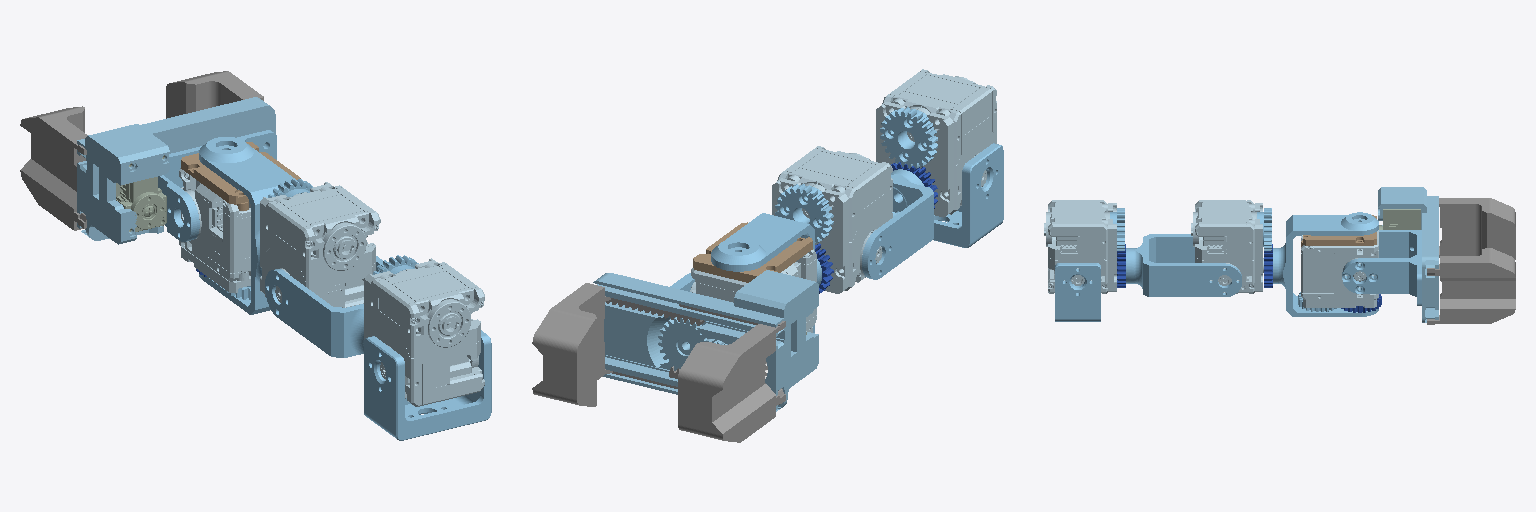
--- What the picture shows (computed from the rendered views, not written in the file) ---
The picture shows the robot from 3 angles, left to right: view 1: azimuth 30°, elevation 25°; view 2: azimuth 150°, elevation 25°; view 3: azimuth 270°, elevation 25°; orthographic projection.
Model left_arm_gripper with 19 links and 18 joints (10 revolute, 2 prismatic, 6 fixed), rooted at sho_pitch_link, posed every joint at zero.
Links seen in each view (by area): view 1: 2xl430_gears, left_rail_guide, 2xl430_gears_2, sho_pitch_link, rail, 2xl430_gears_3, elb_yaw_link, sho_yaw_link, gripper_connector, rail_2, xc330, wrist_bearing_plate; view 2: left_rail_guide, rail, 2xl430_gears_2, 2xl430_gears, rail_2, sho_yaw_link, sho_pitch_link, elb_yaw_link, spur_1m_24t_drive, spur_1m_24t_drive_2, 2xl430_gears_3, wrist_bearing_plate; view 3: rail_2, sho_yaw_link, 2xl430_gears, 2xl430_gears_2, rail, gripper_connector, 2xl430_gears_3, elb_yaw_link, left_rail_guide, sho_pitch_link, xc330, wrist_bearing_plate.
Boxes of the visible links, left/top/right/bottom form: 2xl430_gears: left=364, top=258, right=484, bottom=406; left_rail_guide: left=77, top=97, right=275, bottom=244; 2xl430_gears_2: left=260, top=182, right=380, bottom=307; sho_pitch_link: left=364, top=330, right=491, bottom=440; rail: left=20, top=106, right=87, bottom=230; 2xl430_gears_3: left=179, top=168, right=250, bottom=293; elb_yaw_link: left=199, top=137, right=294, bottom=314; sho_yaw_link: left=265, top=256, right=383, bottom=357; gripper_connector: left=158, top=130, right=276, bottom=241; rail_2: left=166, top=71, right=263, bottom=118; xc330: left=116, top=155, right=166, bottom=231; wrist_bearing_plate: left=181, top=142, right=300, bottom=210; left_rail_guide: left=593, top=270, right=818, bottom=411; rail: left=669, top=304, right=785, bottom=442; 2xl430_gears_2: left=772, top=146, right=892, bottom=293; 2xl430_gears: left=876, top=69, right=996, bottom=217; rail_2: left=532, top=283, right=704, bottom=406; sho_yaw_link: left=862, top=169, right=933, bottom=279; sho_pitch_link: left=933, top=143, right=1003, bottom=247; elb_yaw_link: left=711, top=213, right=821, bottom=332; spur_1m_24t_drive: left=880, top=107, right=937, bottom=168; spur_1m_24t_drive_2: left=775, top=184, right=833, bottom=242; 2xl430_gears_3: left=690, top=249, right=816, bottom=332; wrist_bearing_plate: left=693, top=222, right=812, bottom=282; rail_2: left=1427, top=248, right=1515, bottom=324; sho_yaw_link: left=1126, top=234, right=1241, bottom=296; 2xl430_gears: left=1044, top=200, right=1116, bottom=293; 2xl430_gears_2: left=1191, top=200, right=1263, bottom=293; rail: left=1439, top=198, right=1515, bottom=259; gripper_connector: left=1342, top=230, right=1421, bottom=305; 2xl430_gears_3: left=1301, top=230, right=1378, bottom=307; elb_yaw_link: left=1273, top=212, right=1378, bottom=316; left_rail_guide: left=1378, top=187, right=1438, bottom=322; sho_pitch_link: left=1055, top=263, right=1100, bottom=321; xc330: left=1379, top=209, right=1420, bottom=229; wrist_bearing_plate: left=1301, top=215, right=1376, bottom=246.
Size in the robot's own frame: 0.0917 by 0.2811 by 0.0652 metres.
19 mesh visuals loaded from 19 distinct referenced files (19 binary STL).

robot.urdf — left_arm_gripper:
<?xml version="1.0" ?><robot name="left_arm_gripper">  
  <link name="sho_pitch_link">    
    <visual>      
      <origin xyz="0 0 0" rpy="0 -0 0"/>      
      <geometry>        
        <mesh filename="package:///meshes/left_sho_pitch_link_visual.stl"/>        
      </geometry>      
      <material name="sho_pitch_link_material">        
        <color rgba="0.61568627450980395466 0.81176470588235294379 0.92941176470588227065 1.0"/>        
      </material>      
    </visual>    
    <collision>      
      <origin xyz="0 0 0" rpy="0 -0 0"/>      
      <geometry>        
        <mesh filename="package:///meshes/left_sho_pitch_link_collision.stl"/>        
      </geometry>      
    </collision>    
    <inertial>      
      <origin xyz="1.8449019812287164588e-18 -2.080223803955683775e-18 0.012913250798677554029" rpy="0 0 0"/>      
      <mass value="0.0085999999999999982708"/>      
      <inertia ixx="1.8365636406635691559e-06" ixy="1.0387514045979629962e-20" ixz="-1.6193093852519860617e-61" iyy="4.0110869076838864174e-06" iyz="-1.0800914119377960692e-46" izz="3.516051645049224817e-06"/>      
    </inertial>    
  </link>  

  <link name="2xl430_gears">    
    <visual>      
      <origin xyz="0 0 0" rpy="0 -0 0"/>      
      <geometry>        
        <mesh filename="package:///meshes/left_2xl430_gears_visual.stl"/>        
      </geometry>      
      <material name="2xl430_gears_material">        
        <color rgba="0.7591476792056923717 0.85560384745670914342 0.90519468321360618823 1.0"/>        
      </material>      
    </visual>    
    <collision>      
      <origin xyz="0 0 0" rpy="0 -0 0"/>      
      <geometry>        
        <mesh filename="package:///meshes/left_2xl430_gears_collision.stl"/>        
      </geometry>      
    </collision>    
    <inertial>      
      <origin xyz="-0.011592905737981450826 -0.002423855364253546963 -0.01855109552380399679" rpy="0 0 0"/>      
      <mass value="0.11800003674524908726"/>      
      <inertia ixx="2.7511021050426360412e-05" ixy="9.0043904315238054324e-07" ixz="-2.3349710124000869682e-08" iyy="3.2796197843347020334e-05" iyz="-6.5715119654760767617e-07" izz="3.5775739835743296106e-05"/>      
    </inertial>    
  </link>  

  <link name="spur_1m_24t_drive">    
    <visual>      
      <origin xyz="0 0 0" rpy="0 -0 0"/>      
      <geometry>        
        <mesh filename="package:///meshes/left_spur_1m_24t_drive_visual.stl"/>        
      </geometry>      
      <material name="spur_1m_24t_drive_material">        
        <color rgba="0.61568627450980406568 0.81176470588235294379 0.92941176470588238168 1.0"/>        
      </material>      
    </visual>    
    <collision>      
      <origin xyz="0 0 0" rpy="0 -0 0"/>      
      <geometry>        
        <mesh filename="package:///meshes/left_spur_1m_24t_drive_collision.stl"/>        
      </geometry>      
    </collision>    
    <inertial>      
      <origin xyz="3.0326539266682488924e-15 -3.3909557259597738952e-16 0.0048096451474093039266" rpy="0 0 0"/>      
      <mass value="0.0032000000000000001533"/>      
      <inertia ixx="1.409759888701696132e-07" ixy="1.5562823081573231774e-15" ixz="1.8909116097027644629e-36" iyy="1.4097598803635998845e-07" iyz="8.7196449218219347336e-37" izz="2.4107776386988835496e-07"/>      
    </inertial>    
  </link>  

  <joint name="left_sho_yaw_drive" type="revolute">    
    <origin xyz="-0.024000000716140296869 -0.019000000152454142588 -0.019000000152450579466" rpy="1.5707963267950031394 -3.1434454584096845964e-14 1.6688855498804727815e-13"/>    
    <parent link="2xl430_gears"/>    
    <child link="spur_1m_24t_drive"/>    
    <axis xyz="0 0 1"/>    
    <limit effort="1" velocity="20" lower="-2.6179938779914944114" upper="2.6179938779914944114"/>    
    <joint_properties friction="0.0"/>    
  </joint>  

  <link name="spur_1m_24t_driven">    
    <visual>      
      <origin xyz="0 0 0" rpy="0 -0 0"/>      
      <geometry>        
        <mesh filename="package:///meshes/left_spur_1m_24t_driven_visual.stl"/>        
      </geometry>      
      <material name="spur_1m_24t_driven_material">        
        <color rgba="0.23137254901960788156 0.38039215686274502337 0.7058823529411765163 1.0"/>        
      </material>      
    </visual>    
    <collision>      
      <origin xyz="0 0 0" rpy="0 -0 0"/>      
      <geometry>        
        <mesh filename="package:///meshes/left_spur_1m_24t_driven_collision.stl"/>        
      </geometry>      
    </collision>    
    <inertial>      
      <origin xyz="-6.3908415917439005078e-18 -1.6886349105605204739e-15 -0.00097237500038396124102" rpy="0 0 0"/>      
      <mass value="0.0026999999999999997093"/>      
      <inertia ixx="1.2202334915684083145e-07" ixy="4.2715130792968527767e-37" ixz="-7.4298475334020377518e-37" iyy="1.2202334915684064616e-07" iyz="3.4121884323812485808e-36" izz="2.3180293204341257533e-07"/>      
    </inertial>    
  </link>  

  <link name="sho_yaw_link">    
    <visual>      
      <origin xyz="0 0 0" rpy="0 -0 0"/>      
      <geometry>        
        <mesh filename="package:///meshes/left_sho_yaw_link_visual.stl"/>        
      </geometry>      
      <material name="sho_yaw_link_material">        
        <color rgba="0.61568627450980395466 0.81176470588235294379 0.92941176470588238168 1.0"/>        
      </material>      
    </visual>    
    <collision>      
      <origin xyz="0 0 0" rpy="0 -0 0"/>      
      <geometry>        
        <mesh filename="package:///meshes/left_sho_yaw_link_collision.stl"/>        
      </geometry>      
    </collision>    
    <inertial>      
      <origin xyz="-2.4352534325391168114e-18 2.8819643225844087237e-18 -0.024649285094360061377" rpy="0 0 0"/>      
      <mass value="0.014500000000000004205"/>      
      <inertia ixx="9.2365904614004439553e-06" ixy="3.5862833440690446869e-13" ixz="-1.2687936100387064119e-34" iyy="5.8163826335078791714e-06" iyz="-1.5023236319927603688e-35" izz="4.5074356741562113561e-06"/>      
    </inertial>    
  </link>  

  <link name="2xl430_gears_2">    
    <visual>      
      <origin xyz="0 0 0" rpy="0 -0 0"/>      
      <geometry>        
        <mesh filename="package:///meshes/left_2xl430_gears_2_visual.stl"/>        
      </geometry>      
      <material name="2xl430_gears_2_material">        
        <color rgba="0.7591476792056923717 0.85560384745670914342 0.90519468321360618823 1.0"/>        
      </material>      
    </visual>    
    <collision>      
      <origin xyz="0 0 0" rpy="0 -0 0"/>      
      <geometry>        
        <mesh filename="package:///meshes/left_2xl430_gears_2_collision.stl"/>        
      </geometry>      
    </collision>    
    <inertial>      
      <origin xyz="-0.01159290573798117327 -0.0024238553642602004949 -0.018551095523806161725" rpy="0 0 0"/>      
      <mass value="0.11800003674524908726"/>      
      <inertia ixx="2.7511021050432340465e-05" ixy="9.0043904315261866538e-07" ixz="-2.3349710124131547675e-08" iyy="3.2796197843347521777e-05" iyz="-6.5715119654698193058e-07" izz="3.5775739835749923291e-05"/>      
    </inertial>    
  </link>  

  <link name="spur_1m_24t_drive_2">    
    <visual>      
      <origin xyz="0 0 0" rpy="0 -0 0"/>      
      <geometry>        
        <mesh filename="package:///meshes/left_spur_1m_24t_drive_2_visual.stl"/>        
      </geometry>      
      <material name="spur_1m_24t_drive_2_material">        
        <color rgba="0.61568627450980406568 0.81176470588235294379 0.92941176470588238168 1.0"/>        
      </material>      
    </visual>    
    <collision>      
      <origin xyz="0 0 0" rpy="0 -0 0"/>      
      <geometry>        
        <mesh filename="package:///meshes/left_spur_1m_24t_drive_2_collision.stl"/>        
      </geometry>      
    </collision>    
    <inertial>      
      <origin xyz="3.0395928205721561208e-15 -3.3909557259597763604e-16 0.0048096451474092995898" rpy="0 0 0"/>      
      <mass value="0.0032000000000000001533"/>      
      <inertia ixx="1.409759888701696132e-07" ixy="1.5562823101719447534e-15" ixz="4.5205440903615987127e-36" iyy="1.4097598803636001492e-07" iyz="4.1303952486303564848e-36" izz="2.4107776386988835496e-07"/>      
    </inertial>    
  </link>  

  <joint name="left_elbow_yaw_drive" type="revolute">    
    <origin xyz="-0.024000000716141486889 -0.01900000015246021412 -0.019000000152444587731" rpy="1.5707963267946158936 -5.9566245242711314536e-14 1.228127009104490865e-13"/>    
    <parent link="2xl430_gears_2"/>    
    <child link="spur_1m_24t_drive_2"/>    
    <axis xyz="0 0 1"/>    
    <limit effort="1" velocity="20" lower="-2.6179938779914944114" upper="2.6179938779914944114"/>    
    <joint_properties friction="0.0"/>    
  </joint>  

  <link name="spur_1m_24t_driven_2">    
    <visual>      
      <origin xyz="0 0 0" rpy="0 -0 0"/>      
      <geometry>        
        <mesh filename="package:///meshes/left_spur_1m_24t_driven_2_visual.stl"/>        
      </geometry>      
      <material name="spur_1m_24t_driven_2_material">        
        <color rgba="0.23137254901960788156 0.38039215686274502337 0.7058823529411765163 1.0"/>        
      </material>      
    </visual>    
    <collision>      
      <origin xyz="0 0 0" rpy="0 -0 0"/>      
      <geometry>        
        <mesh filename="package:///meshes/left_spur_1m_24t_driven_2_collision.stl"/>        
      </geometry>      
    </collision>    
    <inertial>      
      <origin xyz="-2.9213946397902759189e-18 -1.6886349105605200794e-15 -0.00097237500038395430213" rpy="0 0 0"/>      
      <mass value="0.0026999999999999997093"/>      
      <inertia ixx="1.2202334915684083145e-07" ixy="0" ixz="0" iyy="1.2202334915684064616e-07" iyz="5.6884209303599264861e-37" izz="2.3180293204341257533e-07"/>      
    </inertial>    
  </link>  

  <link name="elb_yaw_link">    
    <visual>      
      <origin xyz="0 0 0" rpy="0 -0 0"/>      
      <geometry>        
        <mesh filename="package:///meshes/left_elb_yaw_link_visual.stl"/>        
      </geometry>      
      <material name="elb_yaw_link_material">        
        <color rgba="0.61568627450980395466 0.81176470588235294379 0.92941176470588227065 1.0"/>        
      </material>      
    </visual>    
    <collision>      
      <origin xyz="0 0 0" rpy="0 -0 0"/>      
      <geometry>        
        <mesh filename="package:///meshes/left_elb_yaw_link_collision.stl"/>        
      </geometry>      
    </collision>    
    <inertial>      
      <origin xyz="5.3127688027189133061e-08 0.0019833638641961665906 -0.023416643551549962826" rpy="0 0 0"/>      
      <mass value="0.017500000000000001665"/>      
      <inertia ixx="1.4134344903109196387e-05" ixy="1.6945783921929356084e-12" ixz="-1.1286398721892709078e-11" iyy="6.6435900776211340404e-06" iyz="1.0545227077253057579e-06" izz="8.9925290757998976773e-06"/>      
    </inertial>    
  </link>  

  <link name="spur_1m_24t_driven_3">    
    <visual>      
      <origin xyz="0 0 0" rpy="0 -0 0"/>      
      <geometry>        
        <mesh filename="package:///meshes/left_spur_1m_24t_driven_3_visual.stl"/>        
      </geometry>      
      <material name="spur_1m_24t_driven_3_material">        
        <color rgba="0.23137254901960788156 0.38039215686274502337 0.7058823529411765163 1.0"/>        
      </material>      
    </visual>    
    <collision>      
      <origin xyz="0 0 0" rpy="0 -0 0"/>      
      <geometry>        
        <mesh filename="package:///meshes/left_spur_1m_24t_driven_3_collision.stl"/>        
      </geometry>      
    </collision>    
    <inertial>      
      <origin xyz="-2.9213946397902759189e-18 -1.6886349105605200794e-15 -0.0025723750003839584988" rpy="0 0 0"/>      
      <mass value="0.0026999999999999997093"/>      
      <inertia ixx="1.2202334915684083145e-07" ixy="-3.9235082874827157071e-37" ixz="1.540151194783440735e-36" iyy="1.2202334915684064616e-07" iyz="1.0864894308623725195e-65" izz="2.3180293204341257533e-07"/>      
    </inertial>    
  </link>  

  <link name="2xl430_gears_3">    
    <visual>      
      <origin xyz="0 0 0" rpy="0 -0 0"/>      
      <geometry>        
        <mesh filename="package:///meshes/left_2xl430_gears_3_visual.stl"/>        
      </geometry>      
      <material name="2xl430_gears_3_material">        
        <color rgba="0.7591476792056923717 0.85560384745670914342 0.90519468321360618823 1.0"/>        
      </material>      
    </visual>    
    <collision>      
      <origin xyz="0 0 0" rpy="0 -0 0"/>      
      <geometry>        
        <mesh filename="package:///meshes/left_2xl430_gears_3_collision.stl"/>        
      </geometry>      
    </collision>    
    <inertial>      
      <origin xyz="0.00044890447619516703551 0.011592905379904264868 -0.024576144788197775565" rpy="0 0 0"/>      
      <mass value="0.11800003674524908726"/>      
      <inertia ixx="3.5775739835741886643e-05" ixy="2.334971012477968339e-08" ixz="6.5715119654911433603e-07" iyy="2.7511021050427295537e-05" iyz="9.0043904314901125793e-07" izz="3.27961978433465731e-05"/>      
    </inertial>    
  </link>  

  <link name="spur_1m_24t_drive_3">    
    <visual>      
      <origin xyz="0 0 0" rpy="0 -0 0"/>      
      <geometry>        
        <mesh filename="package:///meshes/left_spur_1m_24t_drive_3_visual.stl"/>        
      </geometry>      
      <material name="spur_1m_24t_drive_3_material">        
        <color rgba="0.61568627450980406568 0.81176470588235294379 0.92941176470588238168 1.0"/>        
      </material>      
    </visual>    
    <collision>      
      <origin xyz="0 0 0" rpy="0 -0 0"/>      
      <geometry>        
        <mesh filename="package:///meshes/left_spur_1m_24t_drive_3_collision.stl"/>        
      </geometry>      
    </collision>    
    <inertial>      
      <origin xyz="3.0326539266682488924e-15 -3.3909557259597738952e-16 0.004809645147409304794" rpy="0 0 0"/>      
      <mass value="0.0032000000000000001533"/>      
      <inertia ixx="1.409759888701696132e-07" ixy="1.556282311437739129e-15" ixz="-1.8235547395955791874e-37" iyy="1.4097598803635998845e-07" iyz="-5.9472593219276696462e-37" izz="2.4107776386988835496e-07"/>      
    </inertial>    
  </link>  

  <joint name="left_wrist_pitch_drive" type="revolute">    
    <origin xyz="-1.5244671348201973698e-10 0.024000000358068290796 -0.0080000000000027861324" rpy="-4.3526989296690041628e-14 -1.012303054589254389e-13 -1.5707963267948548136"/>    
    <parent link="2xl430_gears_3"/>    
    <child link="spur_1m_24t_drive_3"/>    
    <axis xyz="0 0 1"/>    
    <limit effort="1" velocity="20" lower="-1.9198621771937625091" upper="1.3962634015954635824"/>    
    <joint_properties friction="0.0"/>    
  </joint>  

  <link name="gripper_connector">    
    <visual>      
      <origin xyz="0 0 0" rpy="0 -0 0"/>      
      <geometry>        
        <mesh filename="package:///meshes/left_gripper_connector_visual.stl"/>        
      </geometry>      
      <material name="gripper_connector_material">        
        <color rgba="0.61568627450980395466 0.81176470588235294379 0.92941176470588238168 1.0"/>        
      </material>      
    </visual>    
    <collision>      
      <origin xyz="0 0 0" rpy="0 -0 0"/>      
      <geometry>        
        <mesh filename="package:///meshes/left_gripper_connector_collision.stl"/>        
      </geometry>      
    </collision>    
    <inertial>      
      <origin xyz="-0.00018842170188954562057 -0.022508162473387258173 -0.010896047477464287576" rpy="0 0 0"/>      
      <mass value="0.0099999999999999967387"/>      
      <inertia ixx="5.9456375734536726584e-06" ixy="-2.4479055491886681531e-08" ixz="-4.0329437936864279052e-08" iyy="4.2603724874314054683e-06" iyz="4.585261274976229064e-07" izz="2.4669632528047159756e-06"/>      
    </inertial>    
  </link>  

  <link name="left_rail_guide">    
    <visual>      
      <origin xyz="0 0 0" rpy="0 -0 0"/>      
      <geometry>        
        <mesh filename="package:///meshes/left_rail_guide_visual.stl"/>        
      </geometry>      
      <material name="left_rail_guide_material">        
        <color rgba="0.63181718041513335038 0.80465605329635436771 0.89972875975946808857 1.0"/>        
      </material>      
    </visual>    
    <collision>      
      <origin xyz="0 0 0" rpy="0 -0 0"/>      
      <geometry>        
        <mesh filename="package:///meshes/left_rail_guide_collision.stl"/>        
      </geometry>      
    </collision>    
    <inertial>      
      <origin xyz="0.010819518839780870034 0.0021116106205359632016 -7.6871709864913219043e-05" rpy="0 0 0"/>      
      <mass value="0.031121017612416673748"/>      
      <inertia ixx="7.8532725551086577254e-06" ixy="2.0671876731375216749e-06" ixz="4.0098876287871815401e-06" iyy="2.7330594711584456634e-05" iyz="-8.9062740055664937356e-07" izz="3.0532648647413076451e-05"/>      
    </inertial>    
  </link>  

  <link name="rail">    
    <visual>      
      <origin xyz="0 0 0" rpy="0 -0 0"/>      
      <geometry>        
        <mesh filename="package:///meshes/left_rail_visual.stl"/>        
      </geometry>      
      <material name="rail_material">        
        <color rgba="0.64705882352941179736 0.64705882352941179736 0.64705882352941179736 1.0"/>        
      </material>      
    </visual>    
    <collision>      
      <origin xyz="0 0 0" rpy="0 -0 0"/>      
      <geometry>        
        <mesh filename="package:///meshes/left_rail_collision.stl"/>        
      </geometry>      
    </collision>    
    <inertial>      
      <origin xyz="0.029554714214719168819 -0.015933051259988686987 -0.010638774525132309312" rpy="0 0 0"/>      
      <mass value="0.017100000000000004086"/>      
      <inertia ixx="3.6591938331681682466e-06" ixy="2.101313841244636705e-08" ixz="-1.1335092663308559672e-07" iyy="4.7380338190523213965e-06" iyz="3.1225833654311399591e-08" izz="6.0956112819844626417e-06"/>      
    </inertial>    
  </link>  

  <joint name="left_gripper_pinion" type="prismatic">    
    <origin xyz="-0.028872600000000164799 -0.015974999999999989209 -0.0053499999999998826272" rpy="-3.141592653589793116 1.5707963267948943376 0"/>    
    <parent link="left_rail_guide"/>    
    <child link="rail"/>    
    <axis xyz="0 0 1"/>    
    <limit effort="1" velocity="20" lower="-0.025000000000000001388" upper="0"/>    
    <joint_properties friction="0.0"/>    
  </joint>  

  <link name="rail_2">    
    <visual>      
      <origin xyz="0 0 0" rpy="0 -0 0"/>      
      <geometry>        
        <mesh filename="package:///meshes/left_rail_2_visual.stl"/>        
      </geometry>      
      <material name="rail_2_material">        
        <color rgba="0.64705882352941179736 0.64705882352941179736 0.64705882352941179736 1.0"/>        
      </material>      
    </visual>    
    <collision>      
      <origin xyz="0 0 0" rpy="0 -0 0"/>      
      <geometry>        
        <mesh filename="package:///meshes/left_rail_2_collision.stl"/>        
      </geometry>      
    </collision>    
    <inertial>      
      <origin xyz="0.029554714214719168819 -0.015933051259988697396 -0.010638774525132309312" rpy="0 0 0"/>      
      <mass value="0.017100000000000004086"/>      
      <inertia ixx="3.6591938331681682466e-06" ixy="2.101313841244636705e-08" ixz="-1.1335092663308559672e-07" iyy="4.7380338190523213965e-06" iyz="3.1225833654311399591e-08" izz="6.0956112819844626417e-06"/>      
    </inertial>    
  </link>  

  <joint name="left_gripper_pinion_mirror" type="prismatic">    
    <origin xyz="0.062872600000000139486 0.015974999999999992678 -0.0053499999999998826272" rpy="4.5102810356081756005e-17 1.5707963267948943376 0"/>    
    <parent link="left_rail_guide"/>    
    <child link="rail_2"/>    
    <axis xyz="0 0 1"/>    
    <limit effort="1" velocity="20" lower="-0.025000000000000001388" upper="0"/>    
    <joint_properties friction="0.0"/>    
  </joint>  

  <link name="xc330">    
    <visual>      
      <origin xyz="0 0 0" rpy="0 -0 0"/>      
      <geometry>        
        <mesh filename="package:///meshes/left_xc330_visual.stl"/>        
      </geometry>      
      <material name="xc330_material">        
        <color rgba="0.66932535752643762539 0.72911795671409951325 0.67547870389434383487 1.0"/>        
      </material>      
    </visual>    
    <collision>      
      <origin xyz="0 0 0" rpy="0 -0 0"/>      
      <geometry>        
        <mesh filename="package:///meshes/left_xc330_collision.stl"/>        
      </geometry>      
    </collision>    
    <inertial>      
      <origin xyz="0.0080045171539637974961 -0.015558009851629327203 -0.011717805512823017966" rpy="0 0 0"/>      
      <mass value="0.026599999993091757305"/>      
      <inertia ixx="3.8683410666521895126e-06" ixy="-7.7688424003112006139e-10" ixz="5.7969695833402896073e-10" iyy="2.1626767907501911835e-06" iyz="8.3590274794495044522e-09" izz="3.3158761130057114888e-06"/>      
    </inertial>    
  </link>  

  <link name="spur_gear_(18_teeth)">    
    <visual>      
      <origin xyz="0 0 0" rpy="0 -0 0"/>      
      <geometry>        
        <mesh filename="package:///meshes/left_spur_gear_(18_teeth)_visual.stl"/>        
      </geometry>      
      <material name="spur_gear_(18_teeth)_material">        
        <color rgba="0.91764705882352926025 0.91764705882352926025 0.91764705882352926025 1.0"/>        
      </material>      
    </visual>    
    <collision>      
      <origin xyz="0 0 0" rpy="0 -0 0"/>      
      <geometry>        
        <mesh filename="package:///meshes/left_spur_gear_(18_teeth)_collision.stl"/>        
      </geometry>      
    </collision>    
    <inertial>      
      <origin xyz="6.4184768611141862493e-17 -3.8163916471489756077e-17 -0.0025000000000000351802" rpy="0 0 0"/>      
      <mass value="0.0012999999999999999403"/>      
      <inertia ixx="3.3282842836137718203e-08" ixy="-1.5693871188436038975e-22" ixz="-1.7407521658115461729e-36" iyy="3.3282842836137460123e-08" iyz="1.3305382458620200286e-36" izz="6.1149428795799489038e-08"/>      
    </inertial>    
  </link>  

  <joint name="left_gripper_rack" type="revolute">    
    <origin xyz="0.0079999999999991987243 -0.022499999999989410415 -0.026000000000007045253" rpy="-6.0998081585770428182e-13 -5.3836237079920826632e-14 3.1415926535897362726"/>    
    <parent link="xc330"/>    
    <child link="spur_gear_(18_teeth)"/>    
    <axis xyz="0 0 1"/>    
    <limit effort="1" velocity="20" lower="0" upper="2.7052603405912107881"/>    
    <joint_properties friction="0.0"/>    
  </joint>  

  <joint name="left_gripper_motor" type="fixed">    
    <origin xyz="-0.02195000000000000423 0.022600000000000005501 0.023300000000000015143" rpy="4.1904291285340139929e-27 -4.2723316019681090438e-30 3.8731841363269910881e-30"/>    
    <parent link="left_rail_guide"/>    
    <child link="xc330"/>    
    <axis xyz="0 0 1"/>    
    <limit effort="1" velocity="20"/>    
    <joint_properties friction="0.0"/>    
  </joint>  

  <joint name="left_gripper_fixed" type="fixed">    
    <origin xyz="3.4694469519536141888e-18 -0.037000000000000005107 -0.036000000000000004219" rpy="-1.5707963267948923392 -1.5707963267948945596 0"/>    
    <parent link="gripper_connector"/>    
    <child link="left_rail_guide"/>    
    <axis xyz="0 0 1"/>    
    <limit effort="1" velocity="20"/>    
    <joint_properties friction="0.0"/>    
  </joint>  

  <joint name="left_wrist_roll" type="revolute">    
    <origin xyz="0.0190000000000069523 -3.5808195297803990798e-10 -0.027000000152449583901" rpy="-5.2304162520204924206e-14 1.5707963267947342434 0"/>    
    <parent link="2xl430_gears_3"/>    
    <child link="gripper_connector"/>    
    <axis xyz="0 0 1"/>    
    <limit effort="1" velocity="20" lower="-1.9198621771937625091" upper="1.3962634015954635824"/>    
    <joint_properties friction="0.0"/>    
  </joint>  

  <link name="wrist_bearing_plate">    
    <visual>      
      <origin xyz="0 0 0" rpy="0 -0 0"/>      
      <geometry>        
        <mesh filename="package:///meshes/left_wrist_bearing_plate_visual.stl"/>        
      </geometry>      
      <material name="wrist_bearing_plate_material">        
        <color rgba="0.71932243125689065977 0.63128434304969727187 0.52422389360984933404 1.0"/>        
      </material>      
    </visual>    
    <collision>      
      <origin xyz="0 0 0" rpy="0 -0 0"/>      
      <geometry>        
        <mesh filename="package:///meshes/left_wrist_bearing_plate_collision.stl"/>        
      </geometry>      
    </collision>    
    <inertial>      
      <origin xyz="-0.0075835583121500122275 -0.015499999999999973868 -0.0018386323705903270722" rpy="0 0 0"/>      
      <mass value="0.0049000367468305548388"/>      
      <inertia ixx="4.9707430109150065605e-07" ixy="8.6939968023150419247e-23" ixz="1.8100904820814035248e-08" iyy="7.126852360353850012e-07" iyz="2.1431646046406056847e-23" izz="1.1919657811600107117e-06"/>      
    </inertial>    
  </link>  

  <joint name="left_wrist_pitch_fixed" type="fixed">    
    <origin xyz="0.015500000000001491751 -8.0768725041480138316e-15 -0.045000000000001545708" rpy="-2.3964771139741255694e-14 -1.2834872054056844396e-13 -1.5707963267947808728"/>    
    <parent link="2xl430_gears_3"/>    
    <child link="wrist_bearing_plate"/>    
    <axis xyz="0 0 1"/>    
    <limit effort="1" velocity="20"/>    
    <joint_properties friction="0.0"/>    
  </joint>  

  <joint name="left_wrist_pitch_driven" type="revolute">    
    <origin xyz="0 6.3108872417680944433e-30 -0.0016000000000000005104" rpy="-1.1497747198776528831e-14 -1.1323324151998767252e-14 -1.570796326794896558"/>    
    <parent link="spur_1m_24t_driven_3"/>    
    <child link="2xl430_gears_3"/>    
    <axis xyz="0 0 1"/>    
    <limit effort="1" velocity="20" lower="-1.3962634015954635824" upper="1.9198621771937625091"/>    
    <joint_properties friction="0.0"/>    
  </joint>  

  <joint name="left_wrist_roll_fixed" type="fixed">    
    <origin xyz="0 -0.025299999999999999573 -0.05200000000000001843" rpy="1.570796326794896558 -1.570796326794896558 0"/>    
    <parent link="elb_yaw_link"/>    
    <child link="spur_1m_24t_driven_3"/>    
    <axis xyz="0 0 1"/>    
    <limit effort="1" velocity="20"/>    
    <joint_properties friction="0.0"/>    
  </joint>  

  <joint name="left_elbow_yaw_fixed" type="fixed">    
    <origin xyz="0 0 0.0016000000000000180744" rpy="3.141592653589793116 1.6076875098280159747e-30 -1.570796326794896558"/>    
    <parent link="spur_1m_24t_driven_2"/>    
    <child link="elb_yaw_link"/>    
    <axis xyz="0 0 1"/>    
    <limit effort="1" velocity="20"/>    
    <joint_properties friction="0.0"/>    
  </joint>  

  <joint name="left_elbow_yaw_driven" type="revolute">    
    <origin xyz="-3.5806306877828042445e-10 -0.027000000152460831848 -0.018999999999996998457" rpy="1.5707963267946301045 -3.8080649744640572174e-14 1.8610630468591325517e-14"/>    
    <parent link="2xl430_gears_2"/>    
    <child link="spur_1m_24t_driven_2"/>    
    <axis xyz="0 0 1"/>    
    <limit effort="1" velocity="20" lower="-2.6179938779914944114" upper="2.6179938779914944114"/>    
    <joint_properties friction="0.0"/>    
  </joint>  

  <joint name="left_elbow_roll" type="revolute">    
    <origin xyz="-3.4694469519536141888e-18 -0.019000000000000002998 -0.058999999999999976075" rpy="1.570796326794896558 6.8561441953598501935e-15 1.0275284166515774965e-14"/>    
    <parent link="sho_yaw_link"/>    
    <child link="2xl430_gears_2"/>    
    <axis xyz="0 0 1"/>    
    <limit effort="1" velocity="20" lower="-1.9198621771937625091" upper="2.4434609527920612138"/>    
    <joint_properties friction="0.0"/>    
  </joint>  

  <joint name="left_sho_yaw_fixed" type="fixed">    
    <origin xyz="0 7.8886090522101180541e-31 0.0016000000000000041966" rpy="3.1415926535897629179 2.2803010536375530635e-31 -2.1481139489452393748e-30"/>    
    <parent link="spur_1m_24t_driven"/>    
    <child link="sho_yaw_link"/>    
    <axis xyz="0 0 1"/>    
    <limit effort="1" velocity="20"/>    
    <joint_properties friction="0.0"/>    
  </joint>  

  <joint name="left_sho_yaw_driven" type="revolute">    
    <origin xyz="-3.5806558759676754278e-10 -0.027000000152452598851 -0.019000000000006039835" rpy="1.5707963267950022512 -1.1972614697765140736e-14 1.2707074635707766131e-13"/>    
    <parent link="2xl430_gears"/>    
    <child link="spur_1m_24t_driven"/>    
    <axis xyz="0 0 1"/>    
    <limit effort="1" velocity="20" lower="-2.6179938779914944114" upper="2.6179938779914944114"/>    
    <joint_properties friction="0.0"/>    
  </joint>  

  <joint name="left_sho_roll" type="revolute">    
    <origin xyz="-0.018999999999999933609 -2.4431845435657347395e-17 0.026999999999999909489" rpy="3.1415926535897913396 1.5707963267948392705 0"/>    
    <parent link="sho_pitch_link"/>    
    <child link="2xl430_gears"/>    
    <axis xyz="0 0 1"/>    
    <limit effort="1" velocity="20" lower="-1.570796326794896558" upper="0.34906585039886589561"/>    
    <joint_properties friction="0.0"/>    
  </joint>  


</robot>
